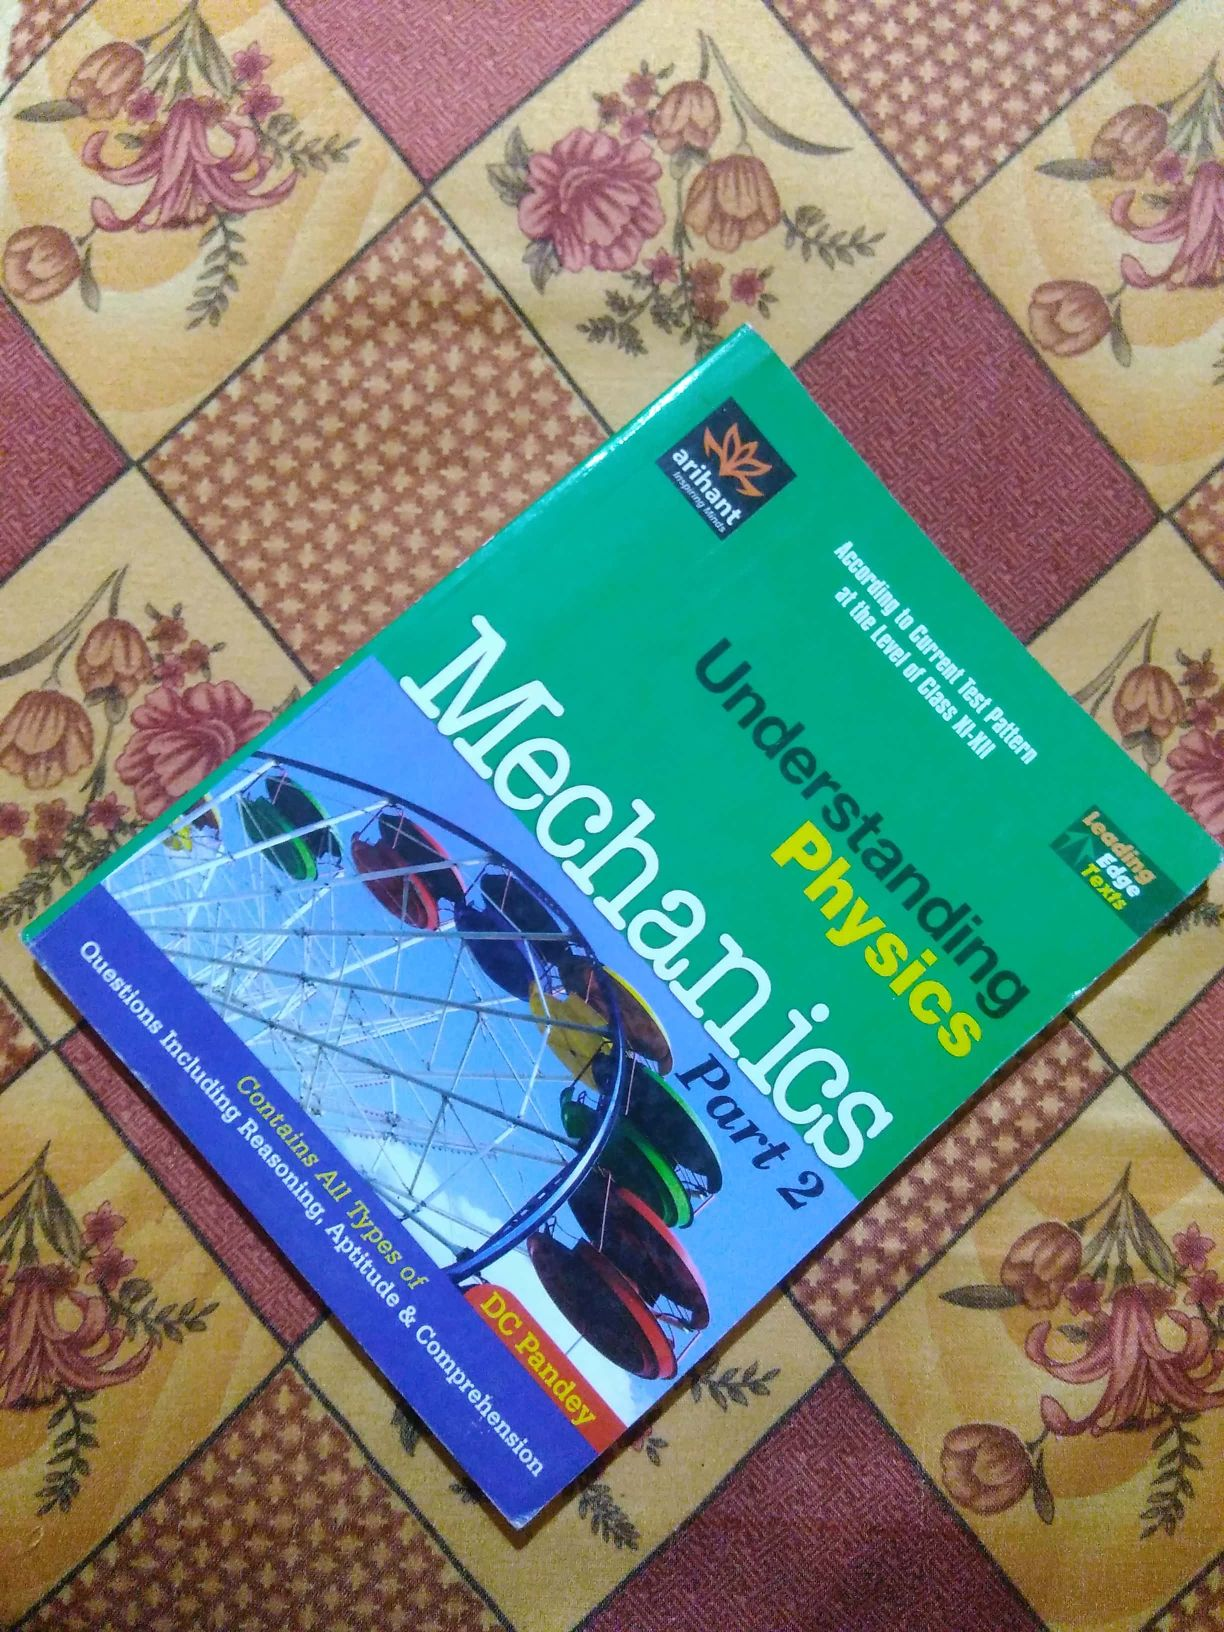mechanics: (136, 380, 1161, 1392)
